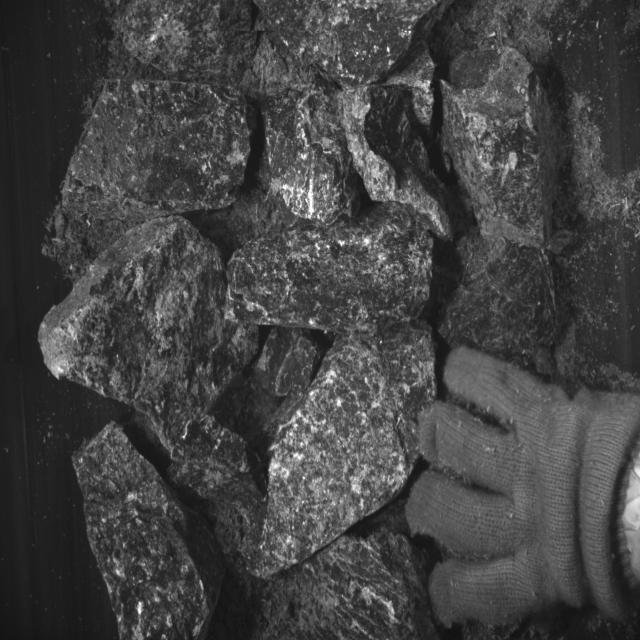Stones: (40, 218, 259, 450), (241, 327, 436, 577), (254, 336, 409, 575), (74, 423, 225, 640), (210, 503, 440, 640), (227, 204, 434, 333), (64, 82, 251, 222), (442, 48, 557, 248), (111, 1, 319, 98), (340, 86, 452, 240), (441, 243, 559, 382), (256, 1, 442, 88), (169, 415, 266, 555), (260, 90, 361, 224)
